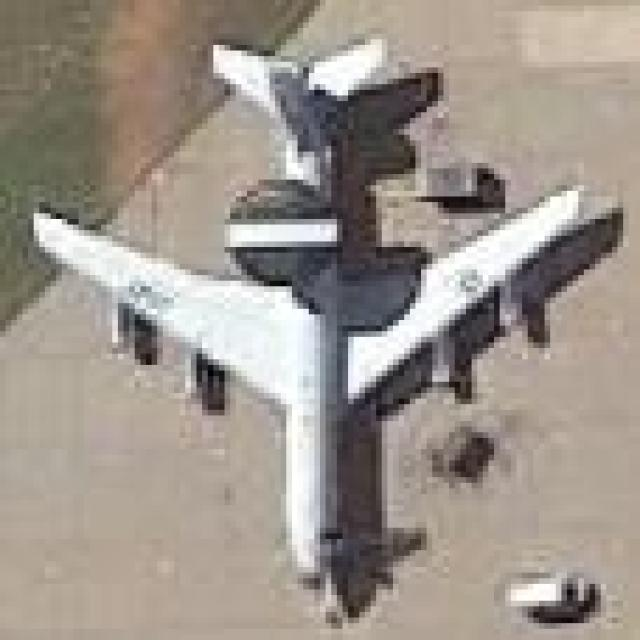E-3_TopDown: (23, 34, 623, 623)
